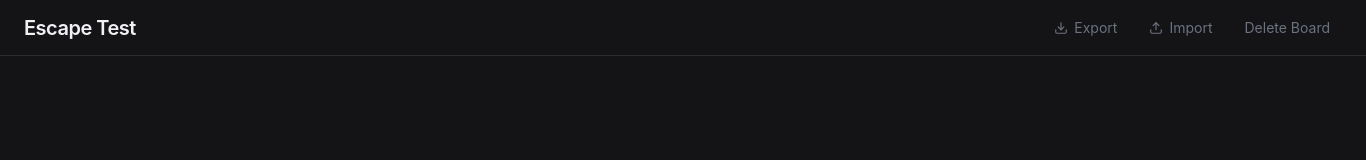
Scenario: Header › cancels editing on Escape
Click the button "Escape Test": (80,28) [24, 14, 136, 42]
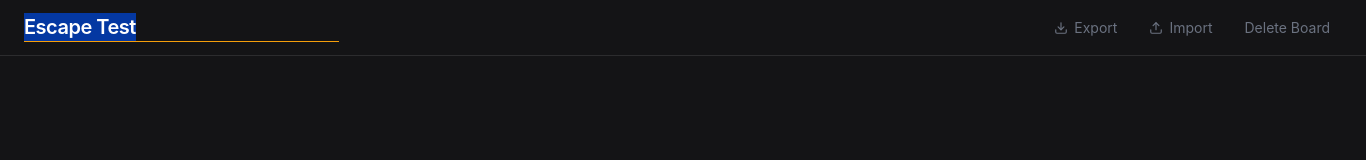
In the field: (182,28) [24, 13, 339, 42], type "Changed"
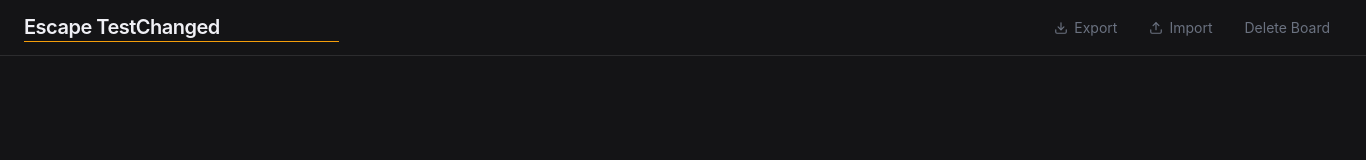
Press Escape
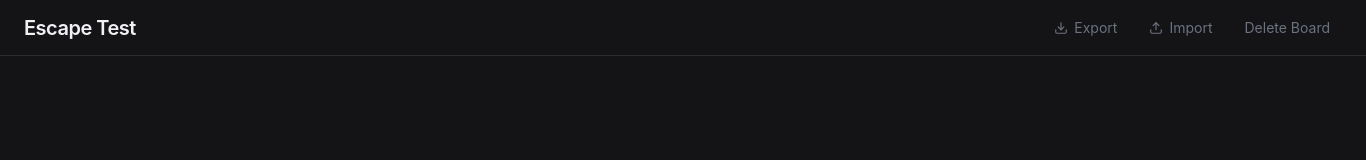
expect the button "Escape Test" is shown: met, box [24, 14, 136, 42]
